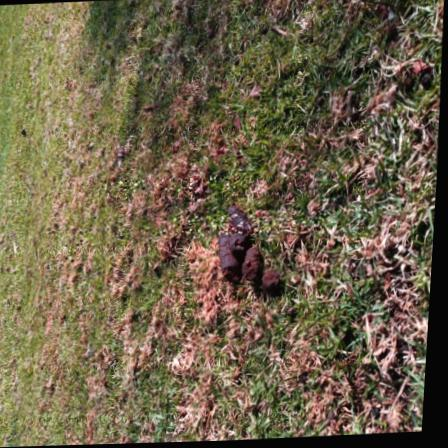dog-poop: (216, 212, 292, 292)
